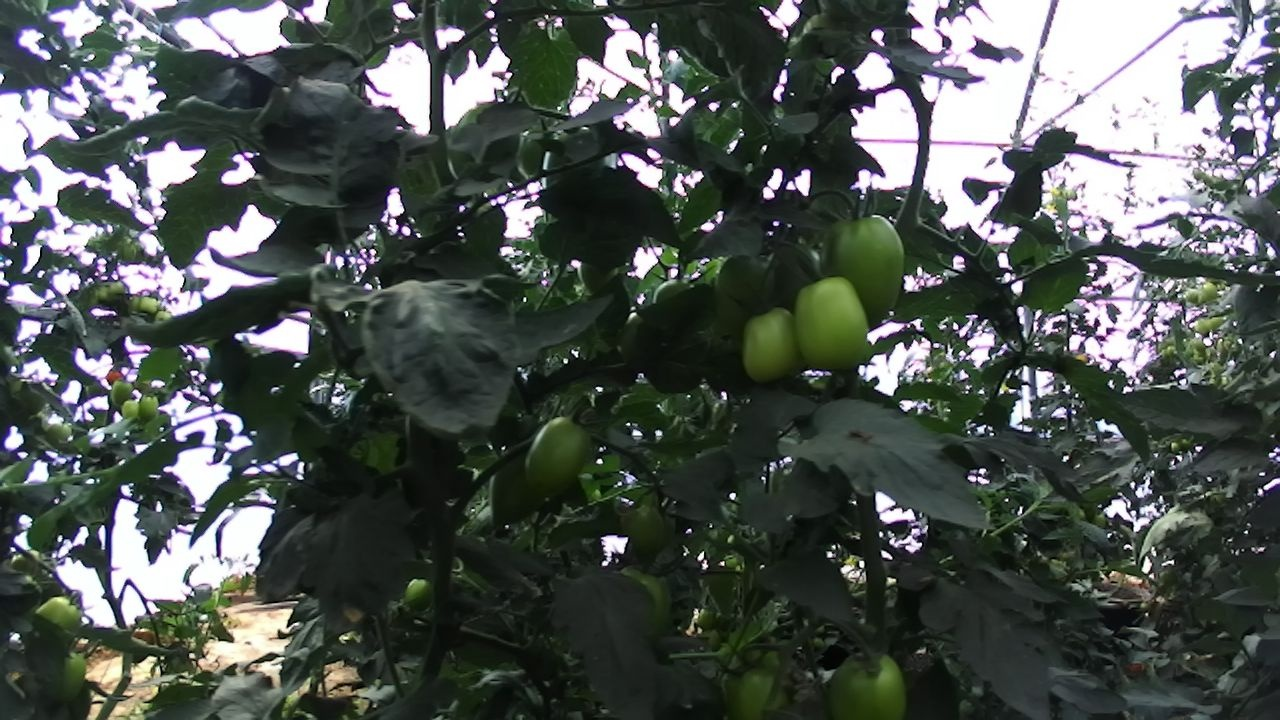tomato: (808, 189, 920, 339), (783, 259, 882, 383), (816, 634, 924, 720), (478, 424, 562, 534), (707, 244, 786, 358), (513, 406, 603, 505), (733, 295, 824, 391), (442, 91, 529, 191), (714, 654, 800, 720), (614, 493, 686, 568), (31, 583, 92, 655), (41, 636, 98, 710), (575, 246, 624, 302), (395, 568, 443, 617), (41, 414, 76, 453), (134, 386, 163, 428), (108, 374, 138, 410), (118, 394, 144, 427), (135, 291, 162, 318), (1199, 275, 1221, 305), (102, 362, 125, 389), (1183, 284, 1206, 308), (151, 305, 173, 330), (93, 283, 116, 306), (107, 275, 127, 300), (1195, 316, 1212, 338), (1203, 313, 1222, 332)
